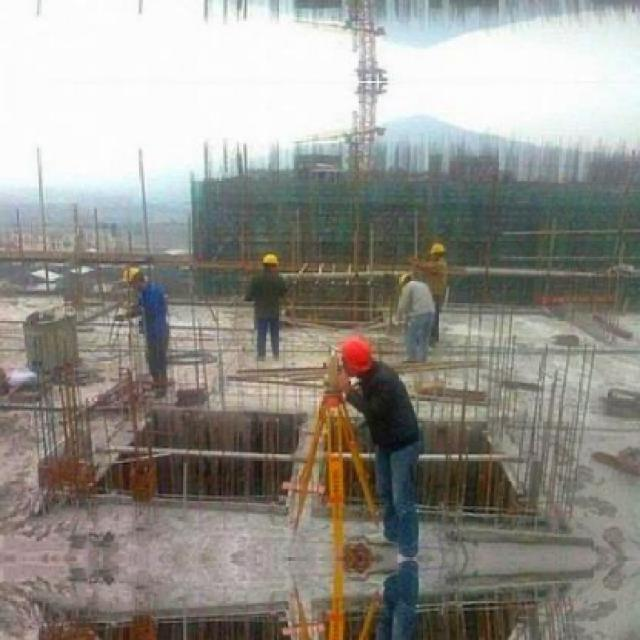helmet: (337, 331, 372, 372), (120, 260, 146, 289), (429, 235, 448, 257), (262, 252, 282, 270), (400, 265, 414, 283)
